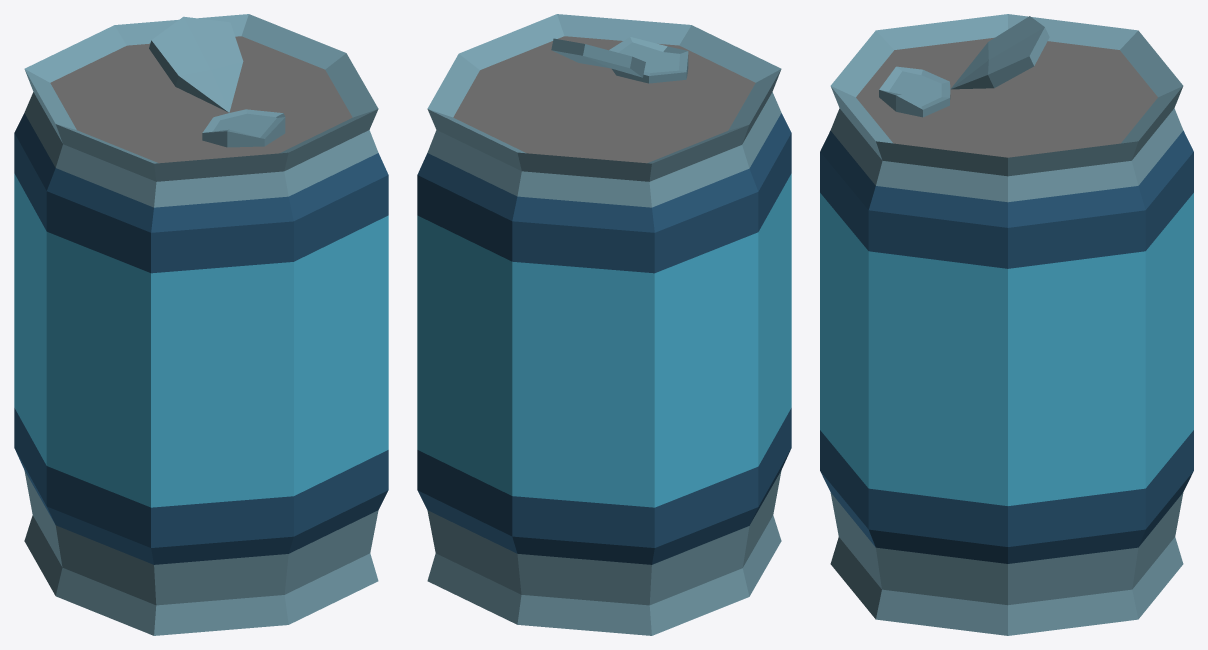
The model's file is Pop.fbx.
3 renders of one model, left to right at view 1: azimuth 30°, elevation 25°; view 2: azimuth 150°, elevation 25°; view 3: azimuth 270°, elevation 25°, orthographic.
Visible parts, largest first — view 1: Pop; view 2: Pop; view 3: Pop.
Boxes of the visible parts, bbox=[...] form: Pop: bbox=[14, 14, 388, 635]; Pop: bbox=[417, 14, 791, 635]; Pop: bbox=[820, 14, 1193, 635].
Bounding box in the file's own units: 5.94 × 9.76 × 6.16.
